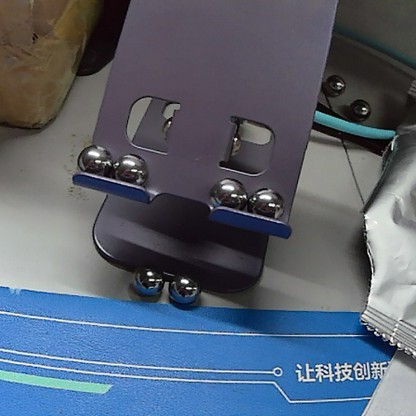ironball: (74, 135, 112, 182), (123, 257, 163, 299), (246, 178, 281, 225), (211, 167, 244, 208), (117, 154, 152, 187), (168, 268, 195, 305), (350, 95, 372, 121), (325, 70, 343, 95)
